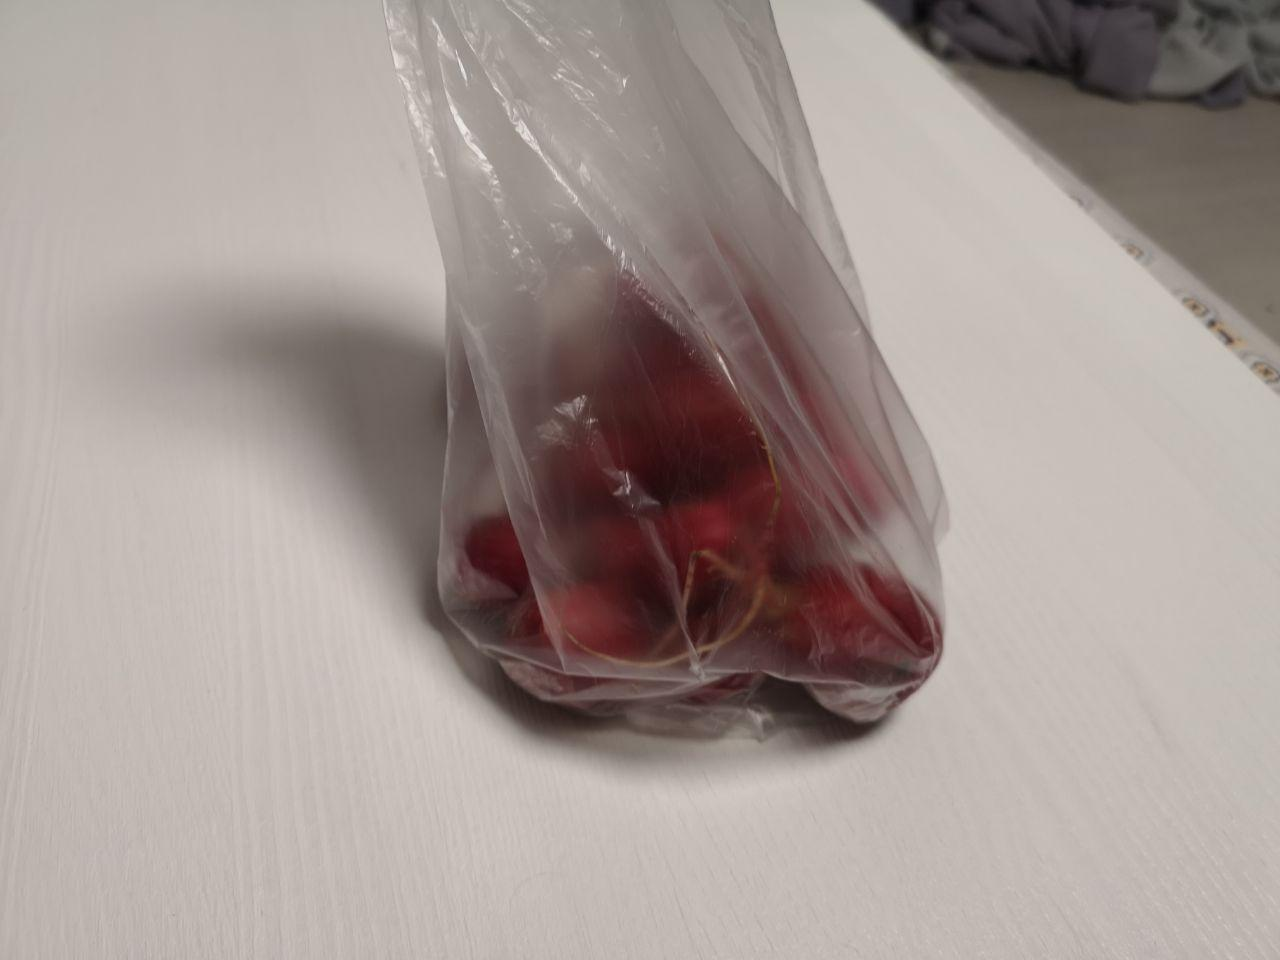redish: (380, 205, 1001, 790)
